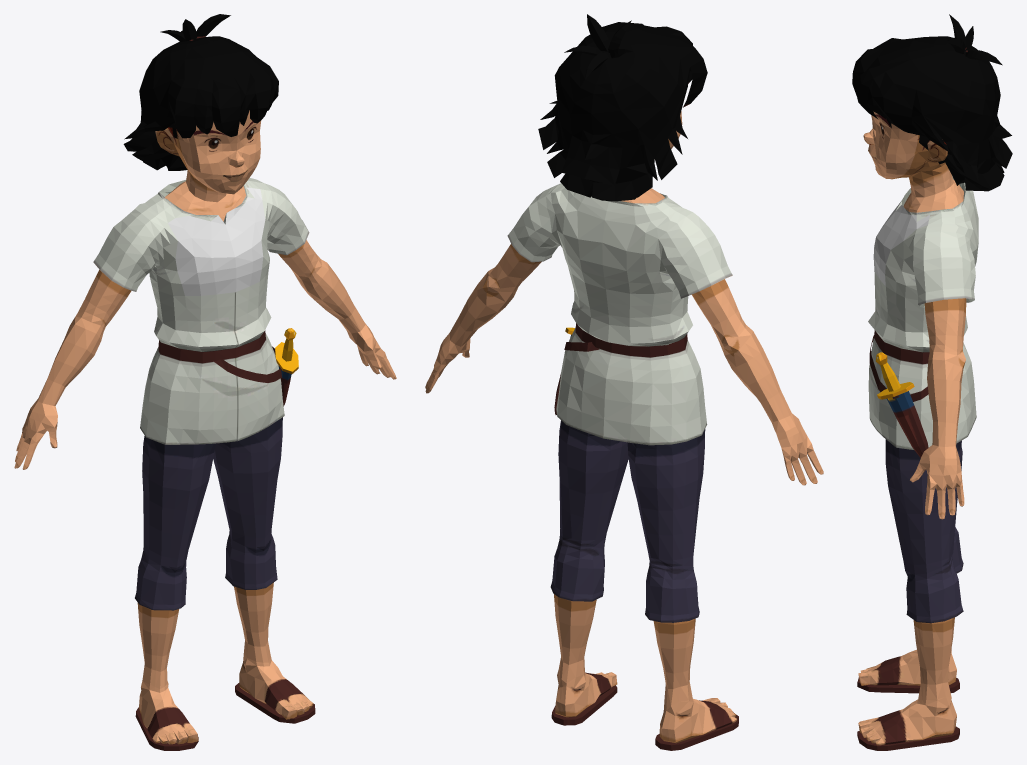
Rendered from player.fbx.
3 renders of one model, left to right at view 1: azimuth 30°, elevation 25°; view 2: azimuth 150°, elevation 25°; view 3: azimuth 270°, elevation 25°, orthographic. The views are drawn at different scales.
Visible parts, largest first — view 1: EVK0NVVRJRFMNYVJXM2LQT2DP; view 2: EVK0NVVRJRFMNYVJXM2LQT2DP; view 3: EVK0NVVRJRFMNYVJXM2LQT2DP.
Part boxes in pixels (x1,y1,x2,y2): EVK0NVVRJRFMNYVJXM2LQT2DP: [14, 14, 396, 750]; EVK0NVVRJRFMNYVJXM2LQT2DP: [425, 14, 823, 750]; EVK0NVVRJRFMNYVJXM2LQT2DP: [852, 14, 1012, 750].
Bounding box in the file's own units: 1.43 × 2.5 × 0.5264.
